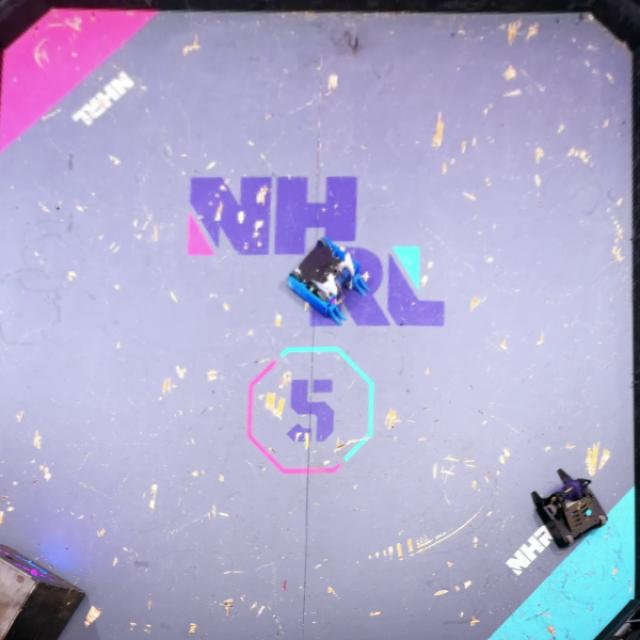housebot: (0, 539, 88, 640)
robot: (526, 466, 610, 554), (287, 236, 372, 322)
